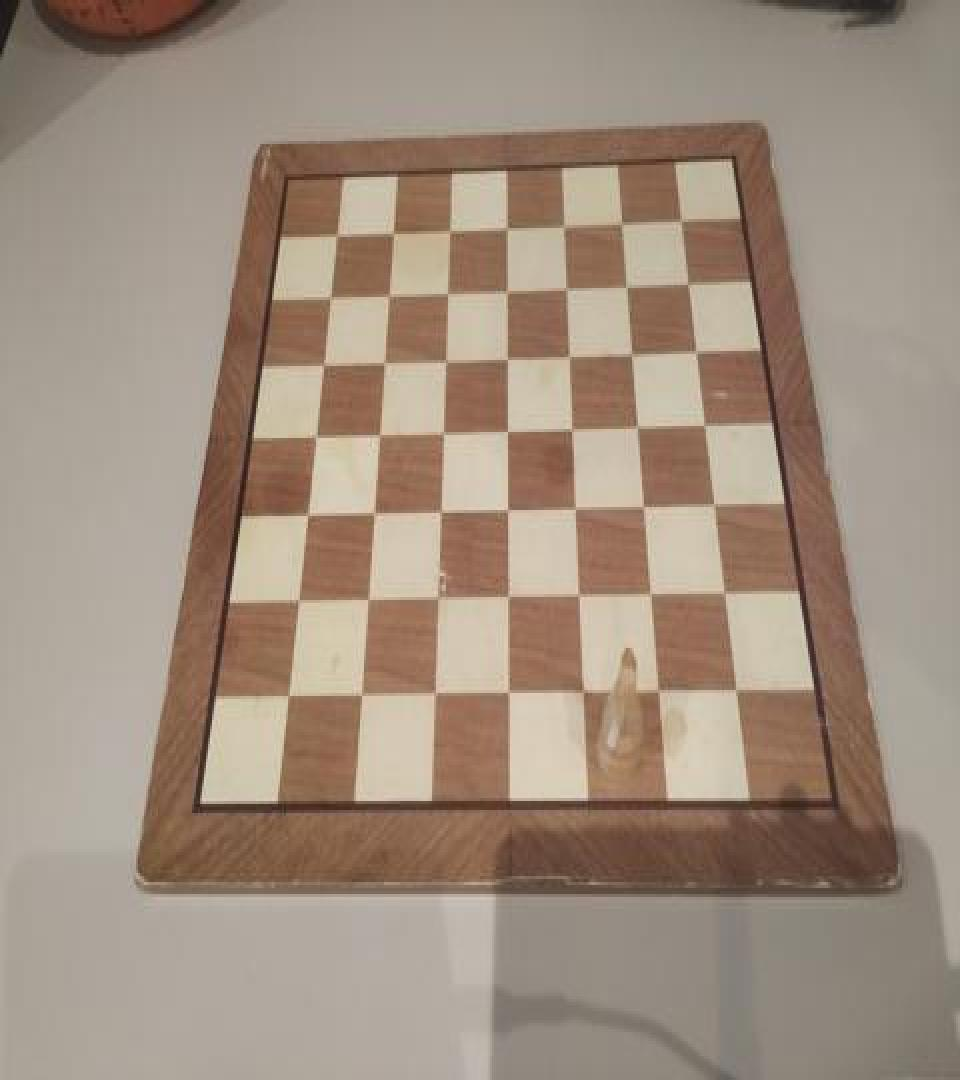xcorner: (278, 684, 298, 714), (352, 684, 372, 714), (501, 681, 521, 711), (576, 680, 596, 710), (651, 678, 671, 708), (727, 676, 747, 706), (430, 585, 450, 615), (501, 584, 521, 614), (572, 582, 592, 612), (716, 579, 736, 609), (298, 498, 318, 528), (365, 498, 385, 528), (433, 496, 453, 526), (501, 495, 521, 525), (569, 494, 589, 524), (637, 492, 657, 522), (705, 490, 725, 520), (307, 418, 327, 448), (371, 417, 391, 447), (436, 416, 456, 446), (500, 414, 520, 444), (565, 412, 585, 442), (631, 411, 651, 441), (696, 410, 716, 440), (315, 344, 335, 374), (376, 342, 396, 372), (438, 340, 458, 370), (500, 339, 520, 369), (562, 338, 582, 368), (625, 336, 645, 366), (688, 334, 708, 364), (322, 276, 342, 306), (381, 274, 401, 304), (440, 273, 460, 303), (500, 272, 520, 302), (560, 270, 580, 300), (620, 268, 640, 298), (680, 267, 700, 297), (329, 214, 349, 244), (386, 212, 406, 242), (443, 210, 463, 240), (500, 208, 520, 238), (557, 207, 577, 237), (615, 206, 635, 236), (672, 204, 692, 234), (426, 683, 446, 712), (288, 587, 308, 616), (359, 587, 379, 616), (644, 581, 664, 610)
